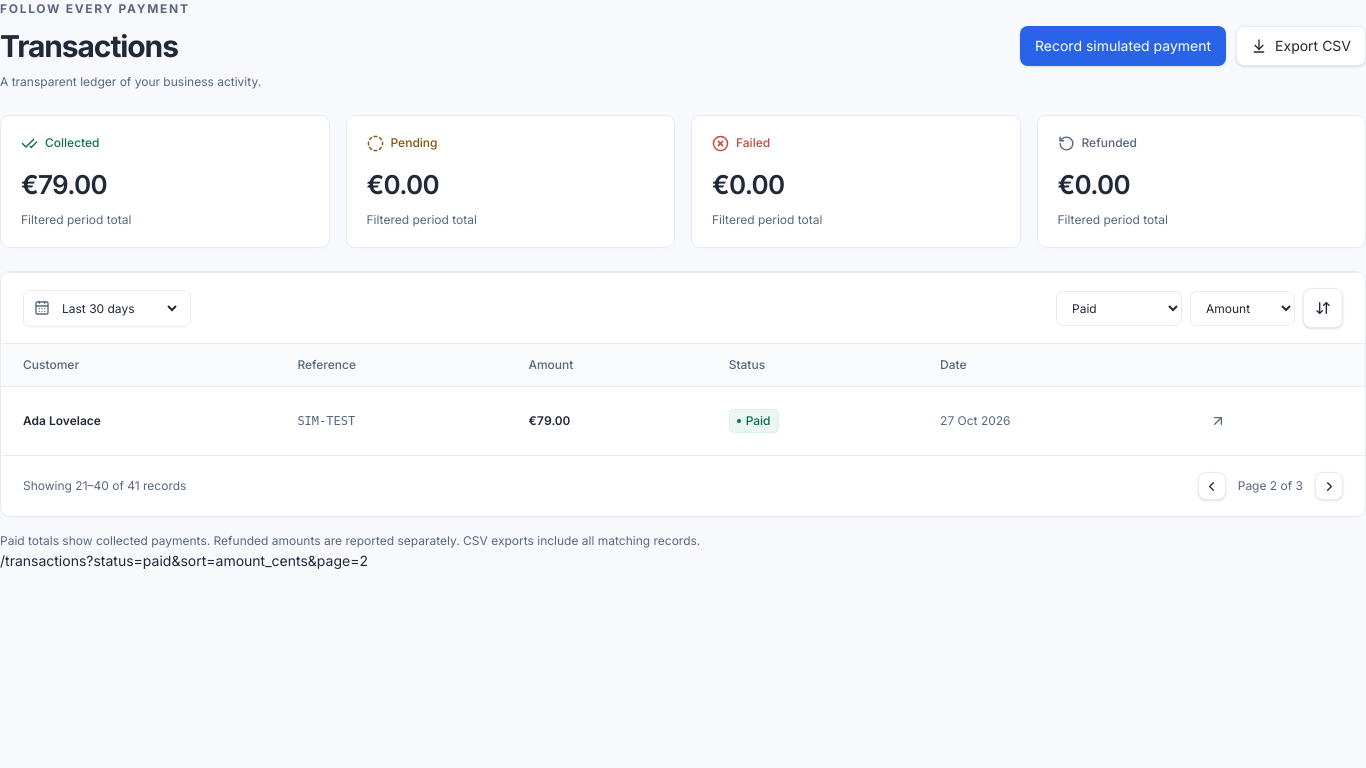
Test case: reporting and ledger pages › filters the ledger, exposes export filters and opens transaction details
Expected: the button named "View transaction SIM-TEST" is shown, [1198,401,1238,441]
Select "Failed" in the dropdown named "Transaction status". click: (1119, 308)
box: [1056,290,1182,326]
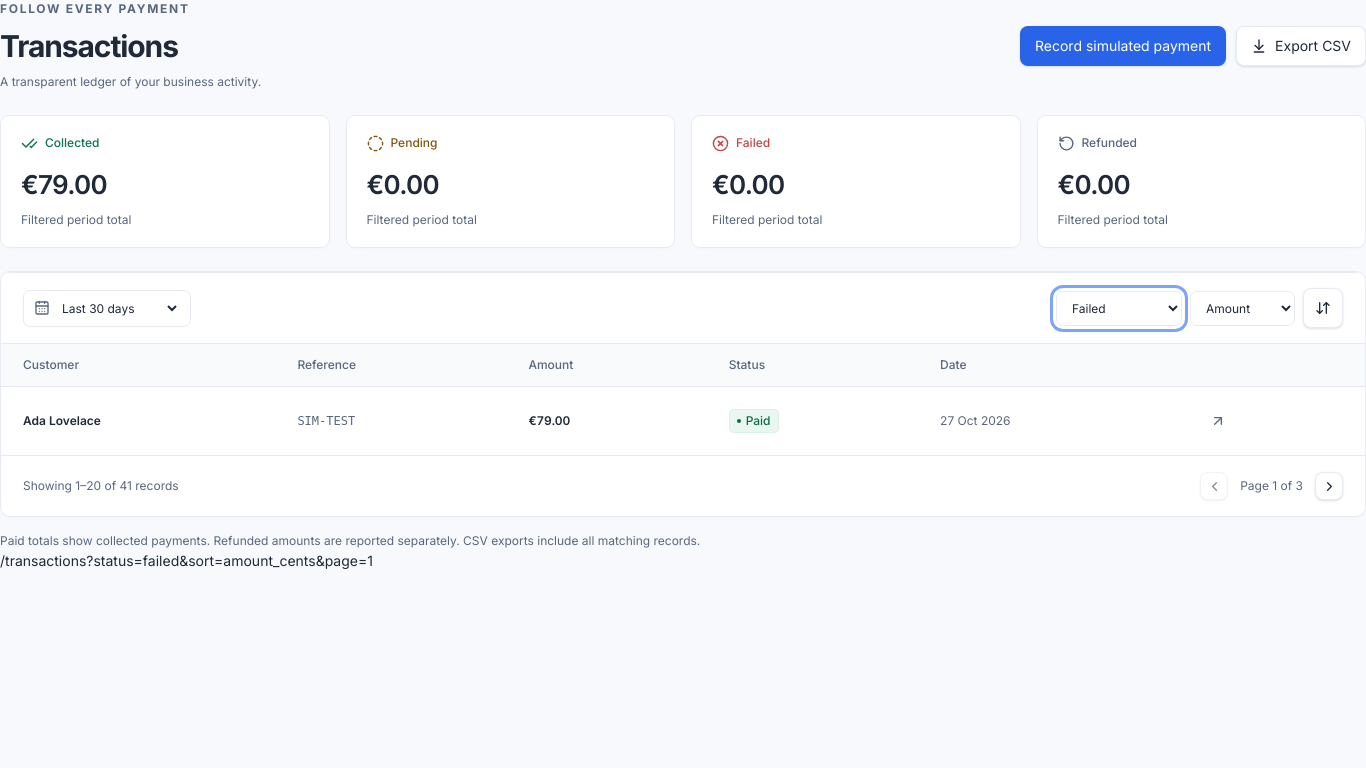
Select "Date" in the dropdown named "Sort transactions". click: (1242, 308)
box: [1190,290,1295,326]
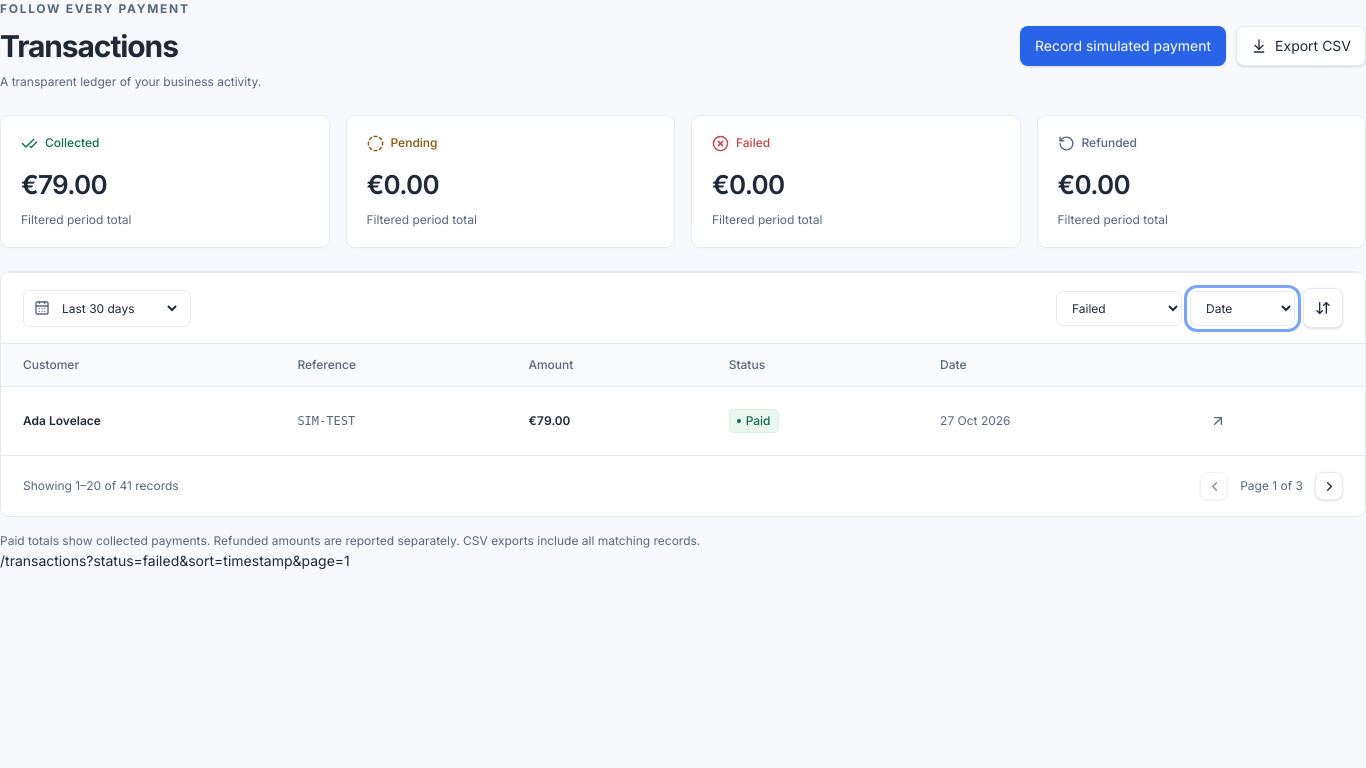
Click the button named "Sort ascending". click: (1323, 308)
box: [1303,288,1343,328]
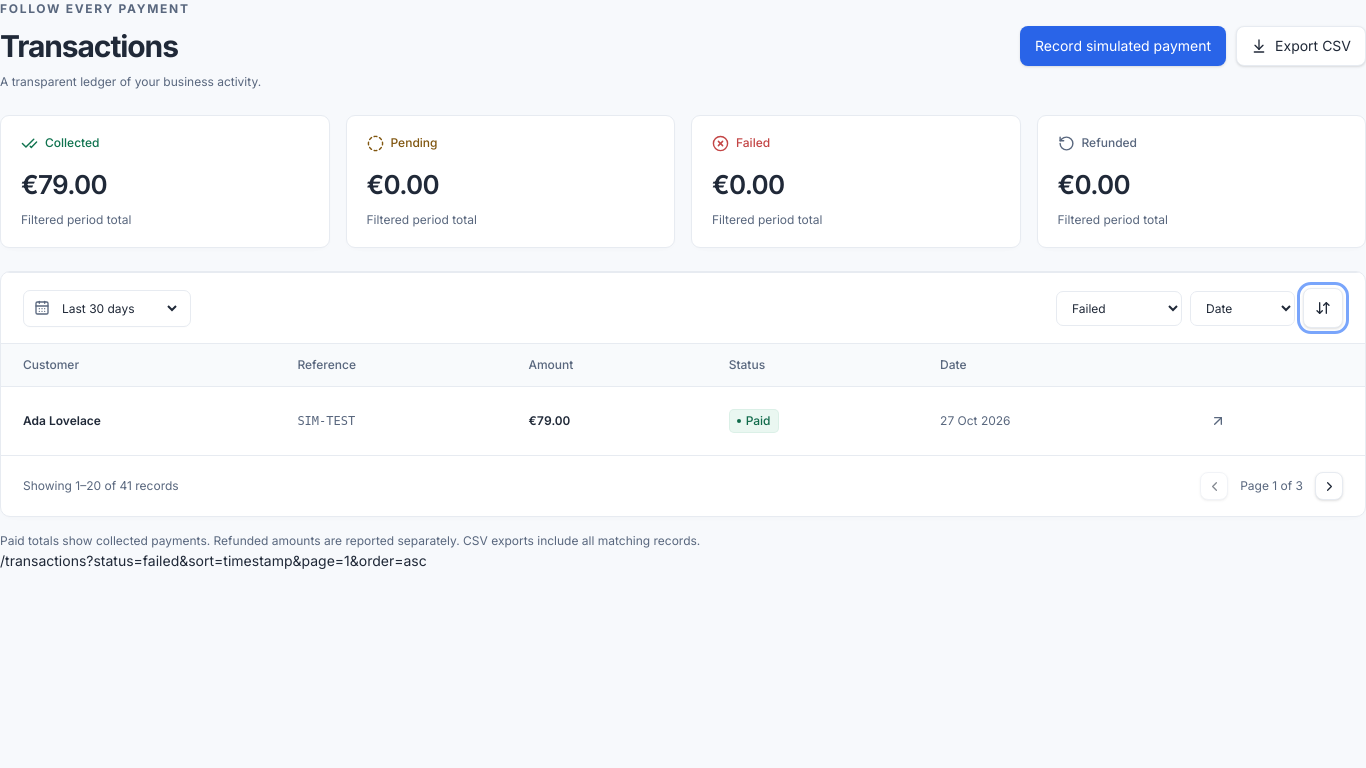
Click the button "Export CSV". click: (1301, 46)
box: [1236,26,1365,66]
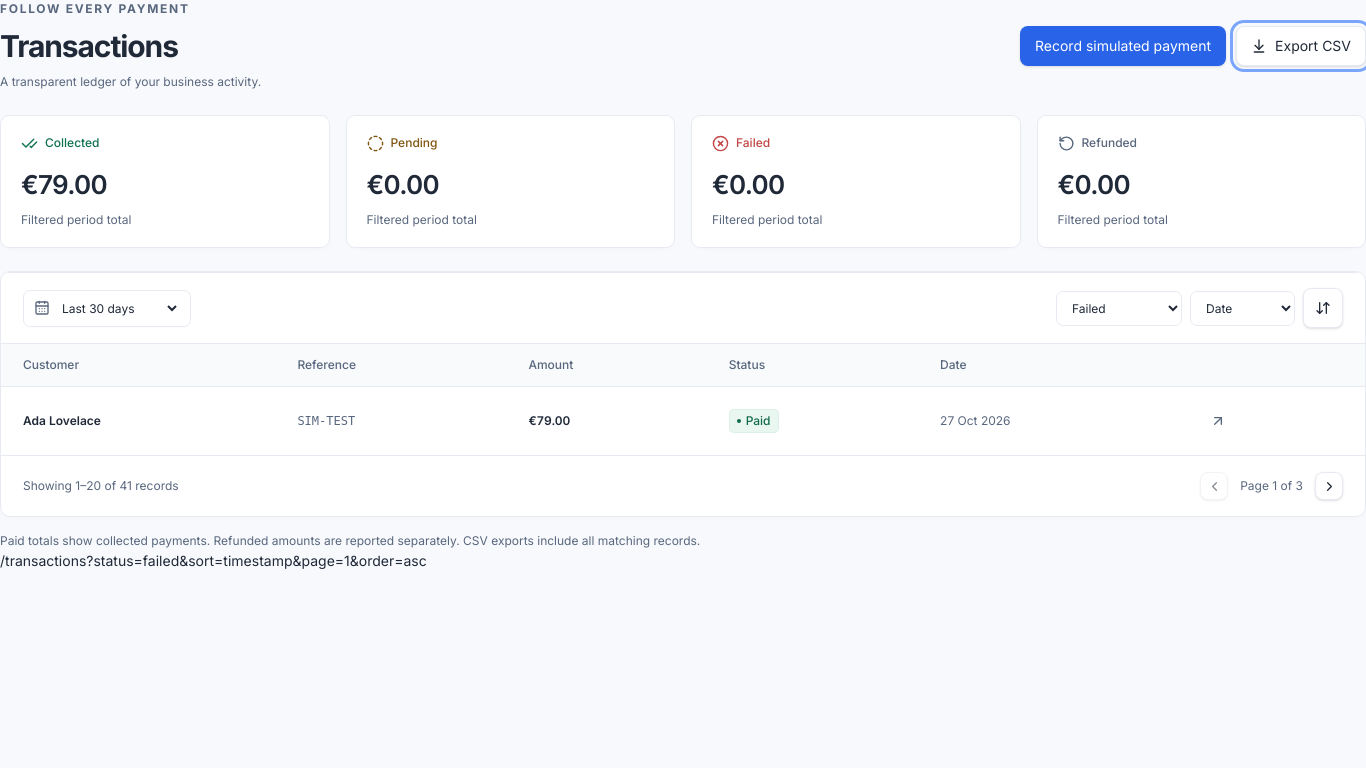
Click the button named "View transaction SIM-TEST". click: (1218, 421)
box: [1198,401,1238,441]
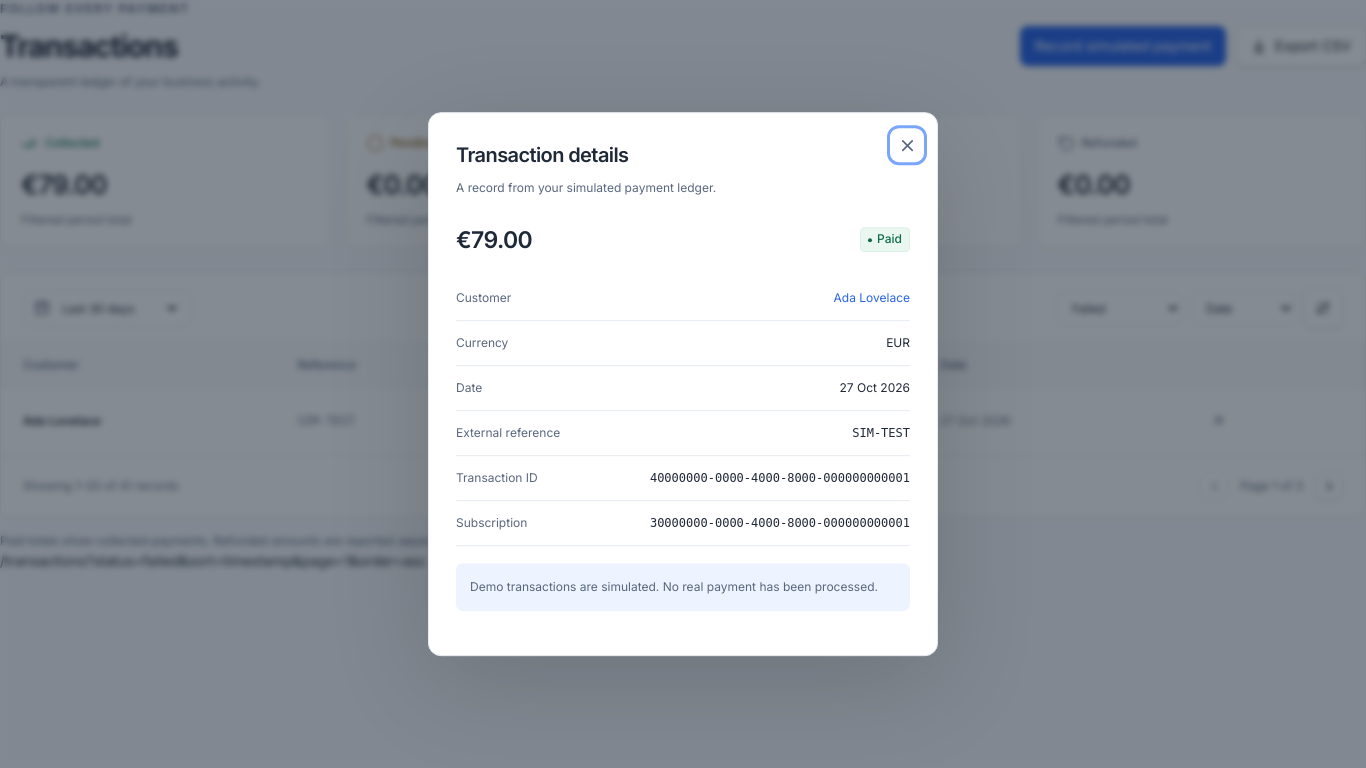
Result: the heading "Transaction details" is shown at [456,143,628,167]
Press Escape
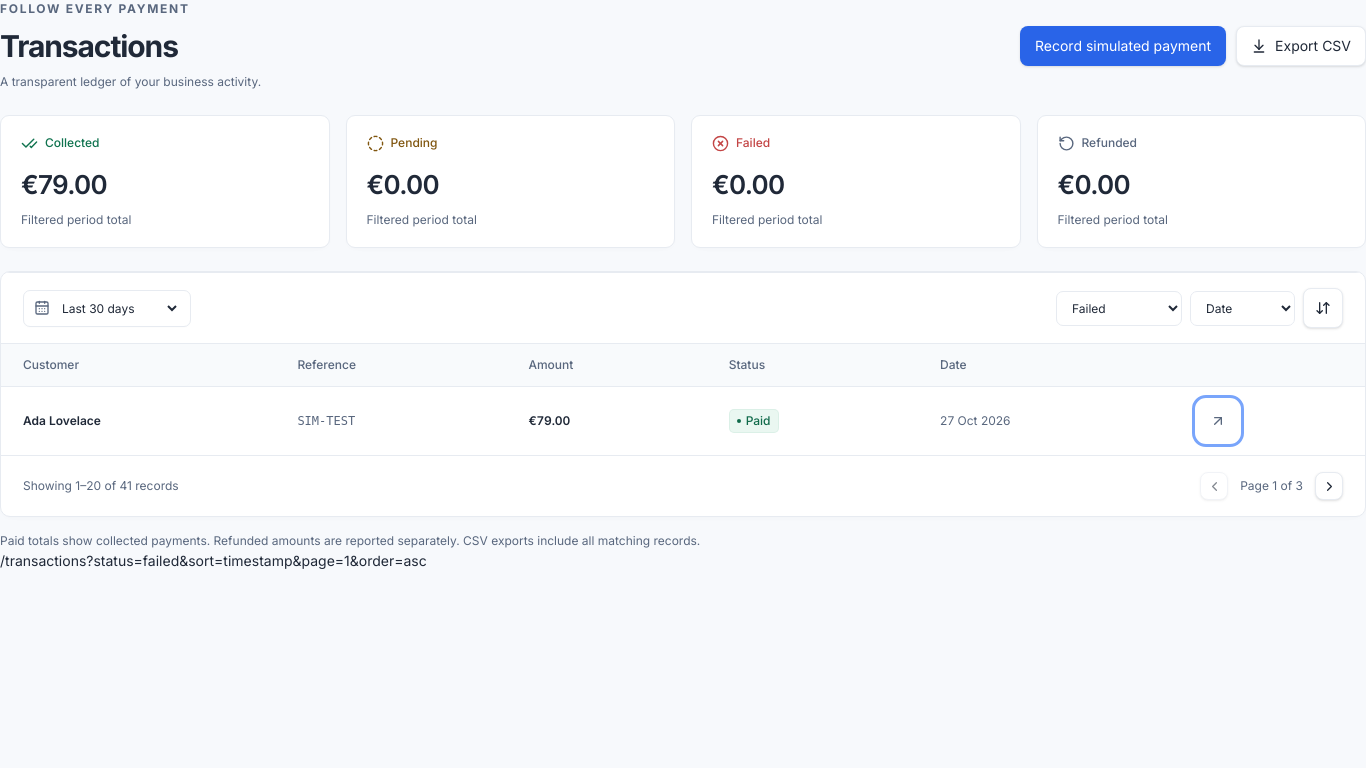
Result: the dialog is gone
